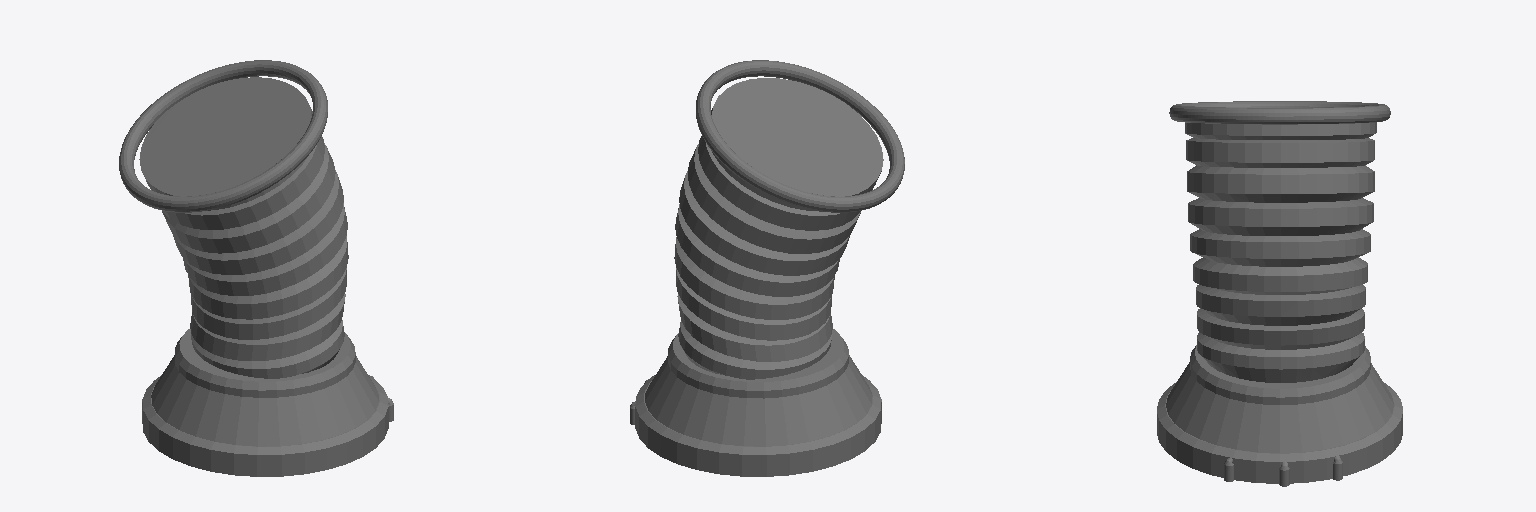
The model's file is goddard_PataIzqTra.obj.
3 views of the same model, side by side, from view 1: azimuth 30°, elevation 25°; view 2: azimuth 150°, elevation 25°; view 3: azimuth 270°, elevation 25° (orthographic).
Visible parts, largest first — view 1: pata_trasera_izquierda; view 2: pata_trasera_izquierda; view 3: pata_trasera_izquierda.
Part boxes in pixels (x1,y1,x2,y2): pata_trasera_izquierda: (119,60,393,476); pata_trasera_izquierda: (630,60,904,476); pata_trasera_izquierda: (1157,101,1402,486).
Bounding box in the file's own units: 1.17 × 1.58 × 1.03.